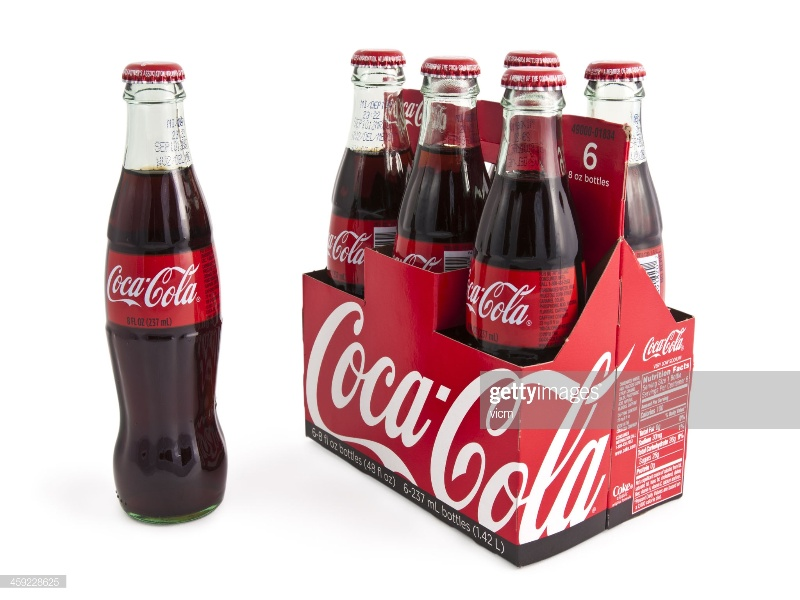coke-glass-bottle: (95, 65, 248, 519), (464, 66, 582, 352), (317, 40, 417, 288), (572, 54, 673, 294), (396, 54, 488, 278)
